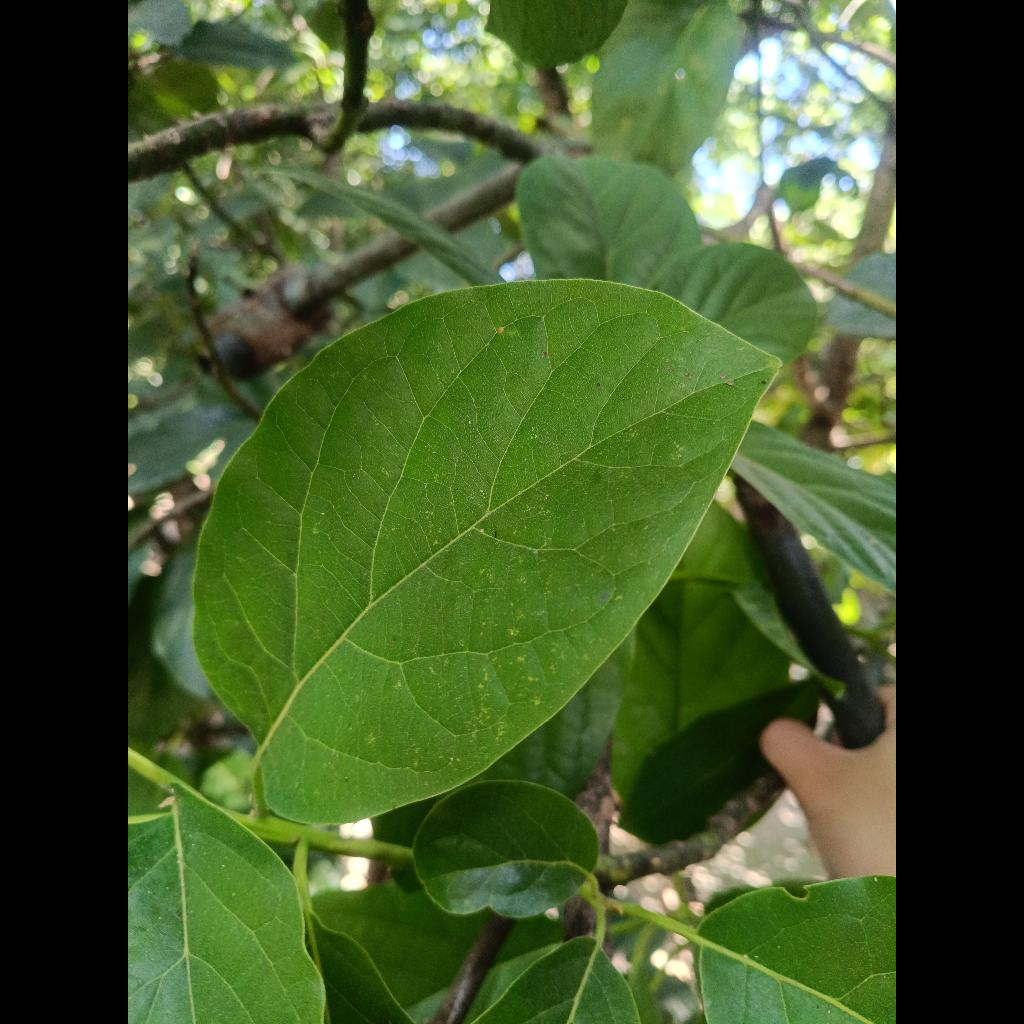hoja_sana: (195, 281, 776, 822)
